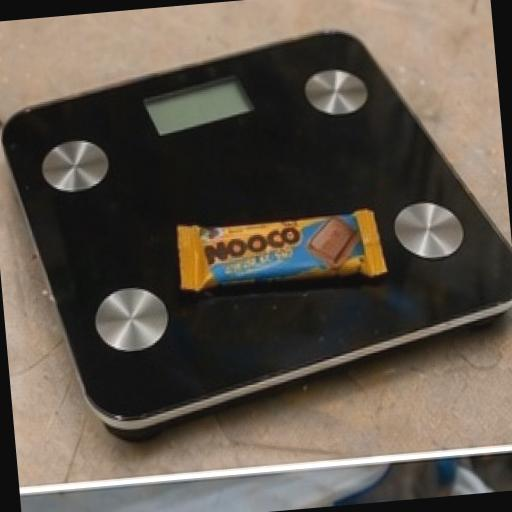biscuit-detection: (138, 163, 449, 340)
